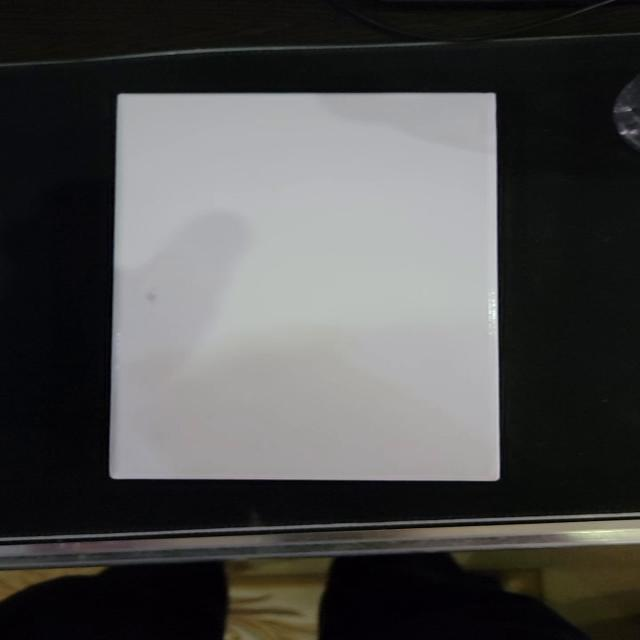Organik: (104, 90, 508, 486)
